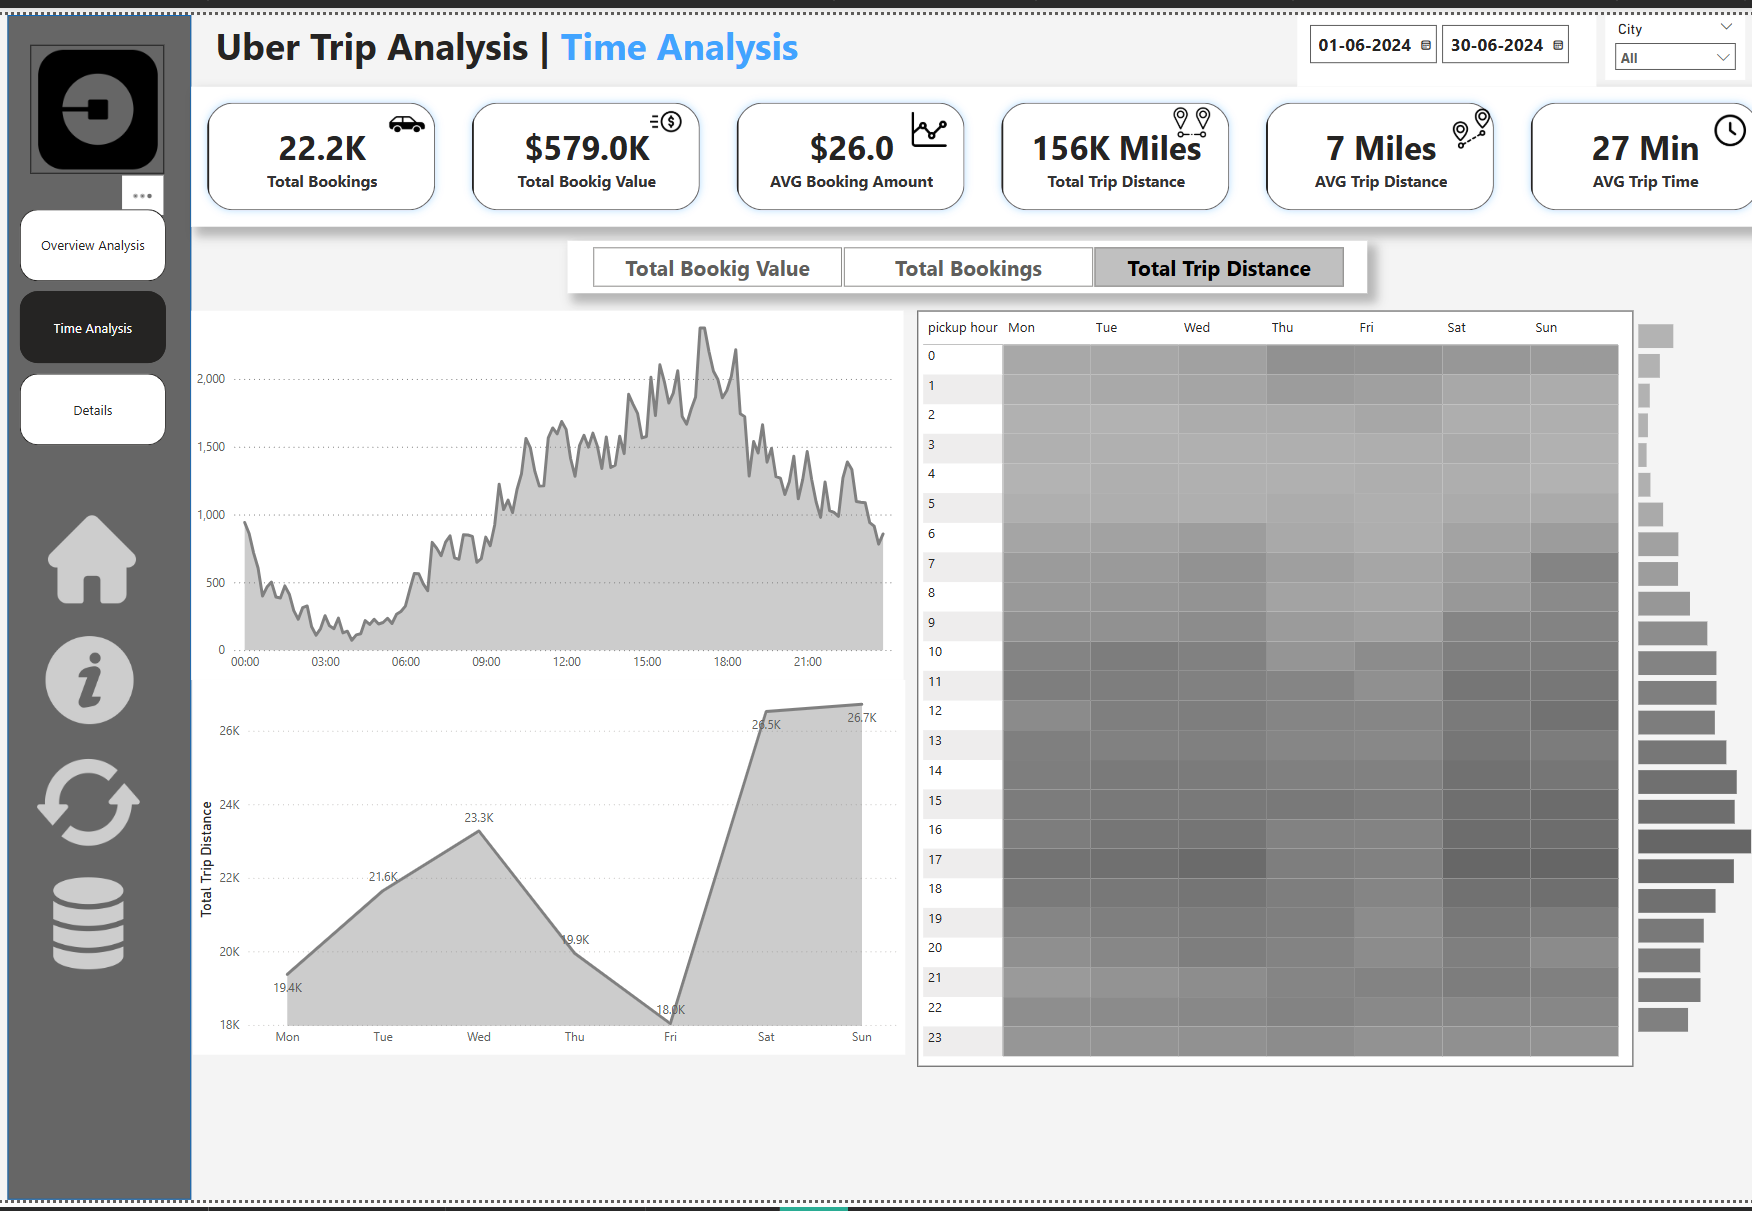

This screenshot's page, from the dashboard's own definition file:
{"tool":"powerbi","page":{"name":"Time Analysis","canvas":[1800,1200],"ordinal":1},"visuals":[{"type":"shape","box":[10.6,0,186,1199.5],"z":0},{"type":"textbox","box":[216.9,0,766.1,73.5],"z":1000},{"type":"cardVisual","fields":{"Data":["Trip Details.Total Bookings","Trip Details.Total Bookig Amount","Trip Details.AVG Booking Amount","Trip Details.Total Trip Distance","Trip Details.AVG Trip Distance","Trip Details.AVG Trip Time"]},"box":[195.9,73.5,1603.9,141.7],"z":2000},{"type":"image","box":[652.4,87.5,50.7,42],"z":3000},{"type":"image","box":[1469.2,85.7,50.7,59.5],"z":4000},{"type":"image","box":[1171.9,85.7,77,47.2],"z":5000},{"type":"image","box":[1724.5,96.2,61.2,42],"z":6000},{"type":"image","box":[918.2,90.9,52.5,50.7],"z":7000},{"type":"image","box":[388.3,87.5,54.2,47.2],"z":8000},{"type":"slicer","fields":{"Values":["Dynamic Mesure.Dynamic Mesure"]},"box":[577.6,228.6,809.7,53.2],"z":10000},{"type":"slicer","fields":{"Values":["Calender Table.Date"]},"box":[1316.4,0,303,72.6],"z":28000},{"type":"slicer","fields":{"Values":["Location Table.City"]},"box":[1628.3,0,141.7,65.6],"z":29000},{"type":"areaChart","fields":{"Category":["Trip Details.Pick Up Hour (HH MM SS) (bins)"],"Y":["Trip Details.Total Trip Distance Mesure"]},"box":[196.7,299.4,721.1,373.8],"z":29001},{"type":"lineChart","fields":{"Category":["Calender Table.Day name"],"Y":["Trip Details.Total Trip Distance Mesure"]},"box":[198.4,673.3,721.1,379.2],"z":29002},{"type":"pivotTable","fields":{"Rows":["Trip Details.pickup hour"],"Columns":["Calender Table.Day name"],"Values":["Trip Details.Total Trip Distance Mesure"]},"box":[932,299.4,724.7,765.4],"z":29003},{"type":"barChart","fields":{"Category":["Trip Details.pickup hour"],"Y":["Trip Details.Total Trip Distance Mesure"]},"box":[1656.6,299.4,143.5,765.4],"z":29004},{"type":"image","box":[35.6,624.4,116.2,99.4],"z":29005},{"type":"image","box":[35.6,738.8,114.4,116.2],"z":29006},{"type":"image","box":[41.2,500.6,110.6,99.4],"z":29007},{"type":"image","box":[41.2,858.8,103.1,120],"z":29008},{"type":"image","box":[33.8,30,136.9,131.2],"z":29009},{"type":"pageNavigator","box":[22.5,196.9,148.1,241.9],"z":29010}]}

Visuals, with their boxes on the page's 1800x1200 design canvas (x1, y1, x2, y2). These are canvas units, not pixel positions in the 1752x1211 screenshot, which may show the page scaled, cropped or inside an application window:
shape: [left=11, top=0, right=197, bottom=1200]
textbox: [left=217, top=0, right=983, bottom=74]
cardVisual - Trip Details.Total Bookings x Trip Details.Total Bookig Amount: [left=196, top=74, right=1800, bottom=215]
image: [left=652, top=88, right=703, bottom=130]
image: [left=1469, top=86, right=1520, bottom=145]
image: [left=1172, top=86, right=1249, bottom=133]
image: [left=1724, top=96, right=1786, bottom=138]
image: [left=918, top=91, right=971, bottom=142]
image: [left=388, top=88, right=442, bottom=135]
slicer - Dynamic Mesure.Dynamic Mesure: [left=578, top=229, right=1387, bottom=282]
slicer - Calender Table.Date: [left=1316, top=0, right=1619, bottom=73]
slicer - Location Table.City: [left=1628, top=0, right=1770, bottom=66]
areaChart - Trip Details.Pick Up Hour (HH MM SS) (bins) x Trip Details.Total Trip Distance Mesure: [left=197, top=299, right=918, bottom=673]
lineChart - Calender Table.Day name x Trip Details.Total Trip Distance Mesure: [left=198, top=673, right=920, bottom=1052]
pivotTable - Trip Details.pickup hour x Calender Table.Day name: [left=932, top=299, right=1657, bottom=1065]
barChart - Trip Details.pickup hour x Trip Details.Total Trip Distance Mesure: [left=1657, top=299, right=1800, bottom=1065]
image: [left=36, top=624, right=152, bottom=724]
image: [left=36, top=739, right=150, bottom=855]
image: [left=41, top=501, right=152, bottom=600]
image: [left=41, top=859, right=144, bottom=979]
image: [left=34, top=30, right=171, bottom=161]
pageNavigator: [left=22, top=197, right=171, bottom=439]
